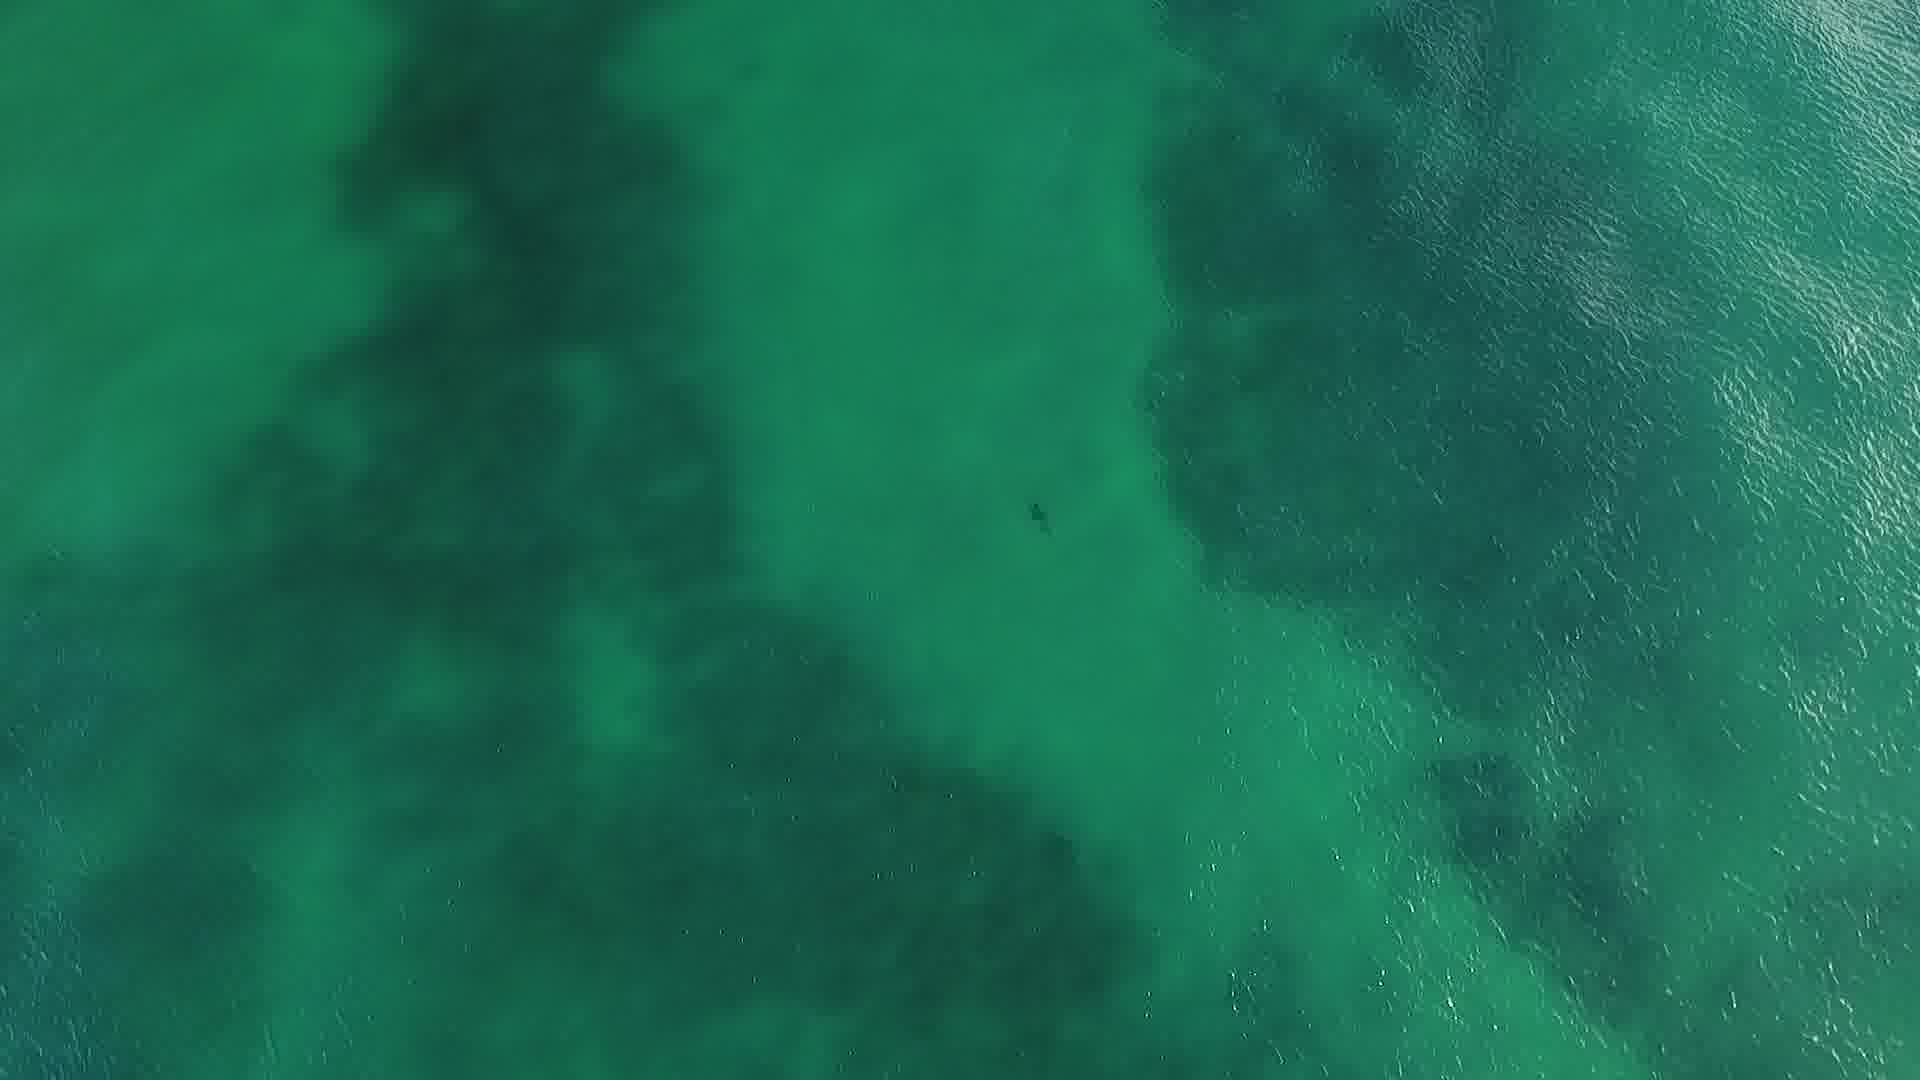shark: (1017, 496, 1055, 538)
